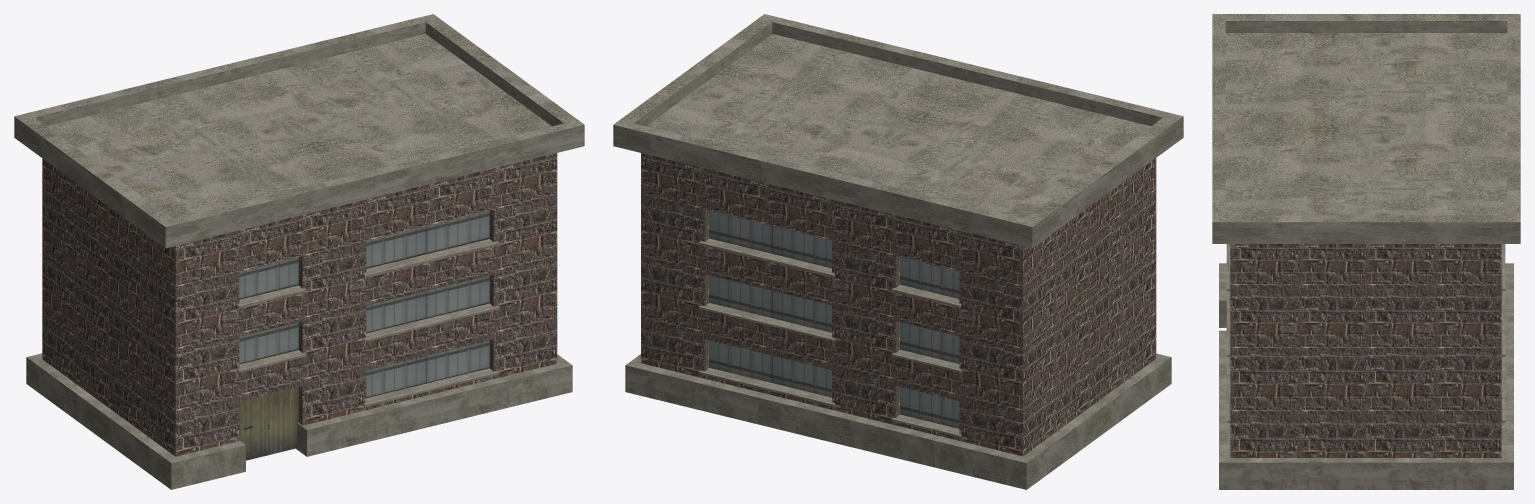
File: Building03A1.fbx
The picture shows the model from 3 angles, left to right: view 1: azimuth 30°, elevation 25°; view 2: azimuth 150°, elevation 25°; view 3: azimuth 270°, elevation 25°; orthographic projection.
Visible parts, largest first — view 1: UB; view 2: UB; view 3: UB.
Boxes of the visible parts, x1=… form: UB: x1=14, y1=14, x2=584, y2=489; UB: x1=613, y1=14, x2=1183, y2=489; UB: x1=1212, y1=14, x2=1520, y2=489.
Bounding box in the file's own units: 10.59 × 6.46 × 6.62.
